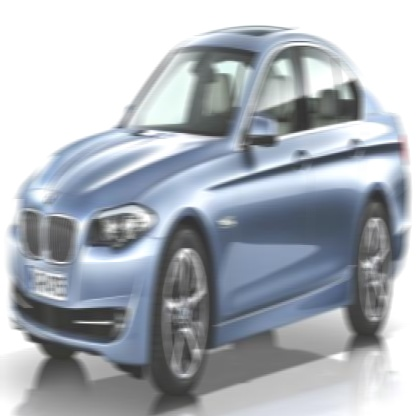Vehicle: (5, 20, 414, 410)
